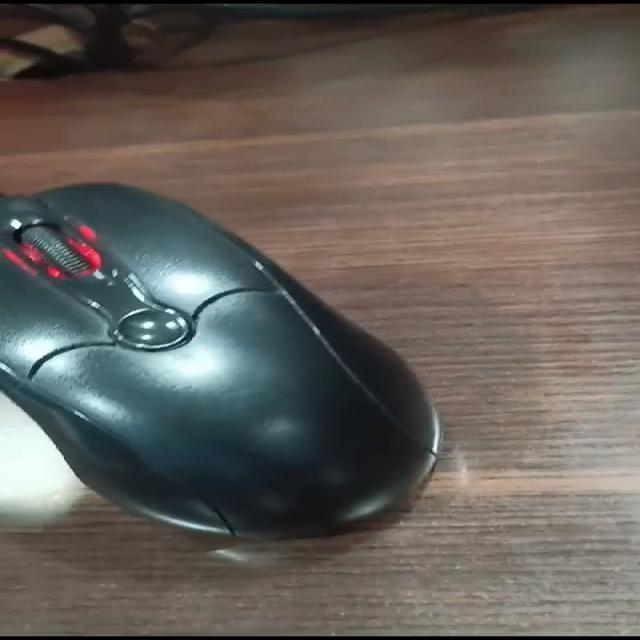Mouse: (0, 142, 477, 564)
